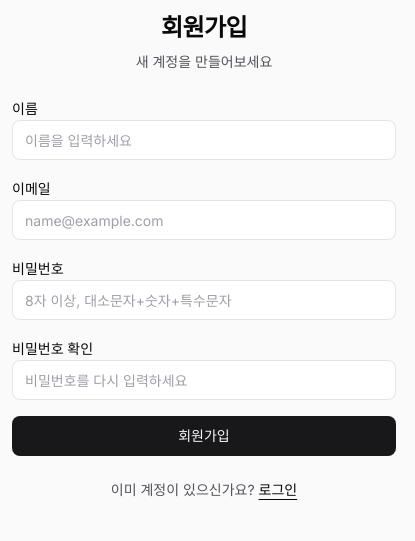
Test: Register › 잘못된 이메일 형식 시 에러가 표시된다
Type "테스트유저" into the field labelled "이름". click: {"x": 204, "y": 140}
box: x1=12 y1=120 x2=396 y2=160
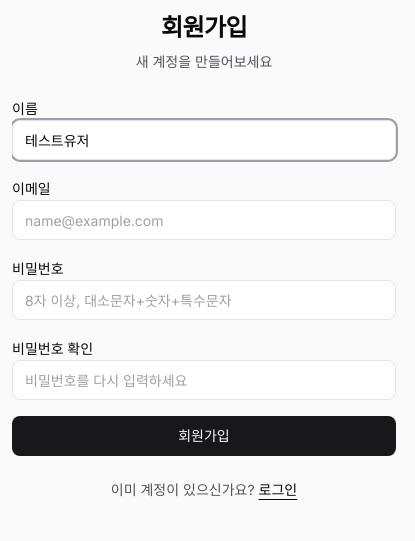
Type "bad-email" into the field labelled "이메일". click: {"x": 204, "y": 220}
box: x1=12 y1=200 x2=396 y2=240
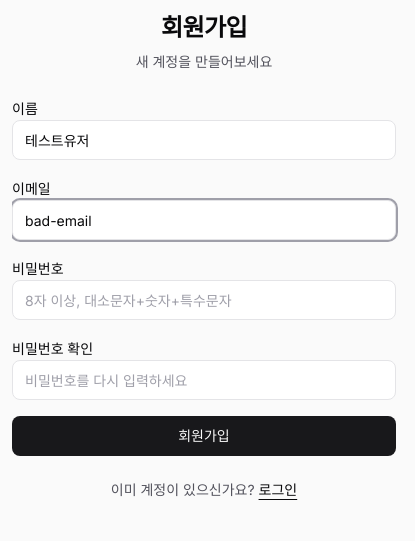
Type "Password1!" into the password field labelled "비밀번호". click: {"x": 204, "y": 300}
box: x1=12 y1=280 x2=396 y2=320
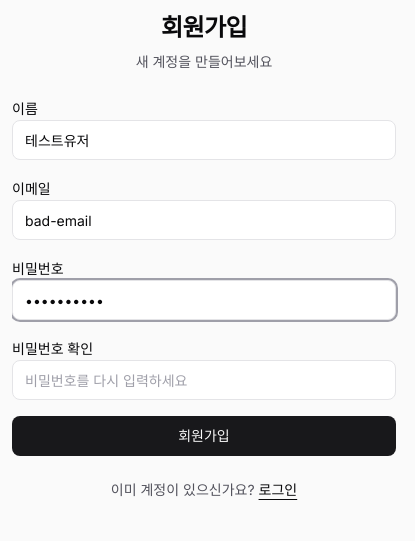
Type "Password1!" into the password field labelled "비밀번호 확인". click: {"x": 204, "y": 380}
box: x1=12 y1=360 x2=396 y2=400
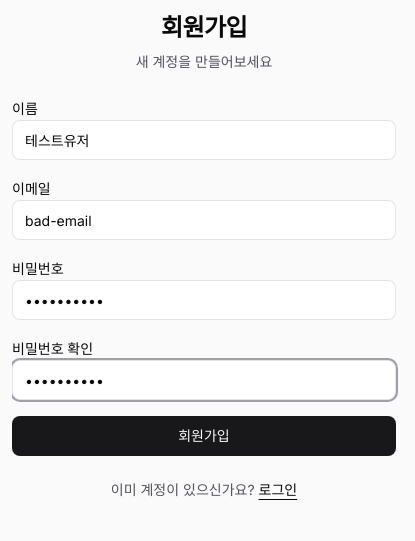
Click the button "회원가입". click: {"x": 204, "y": 436}
box: x1=12 y1=416 x2=396 y2=456
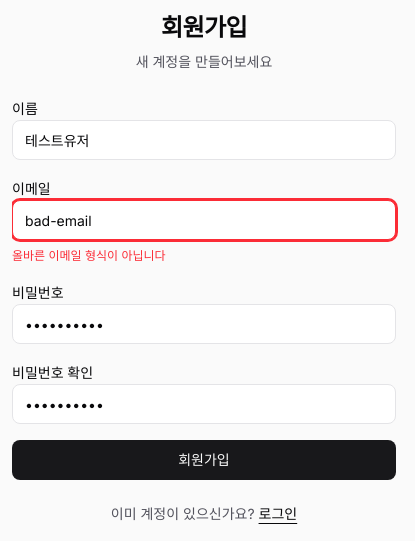
expect the text "올바른 이메일 형식이 아닙니다" is shown: met, box x1=12 y1=248 x2=166 y2=263
